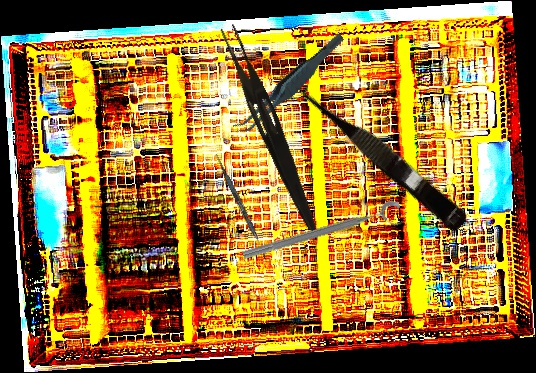Dressing Forceps: (212, 22, 328, 234)
Fixation Ring: (240, 198, 406, 273)
Micro Scissor: (289, 73, 474, 234)
Spatula Surgical: (211, 152, 271, 260)
Tissue Forceps: (219, 31, 360, 138)
